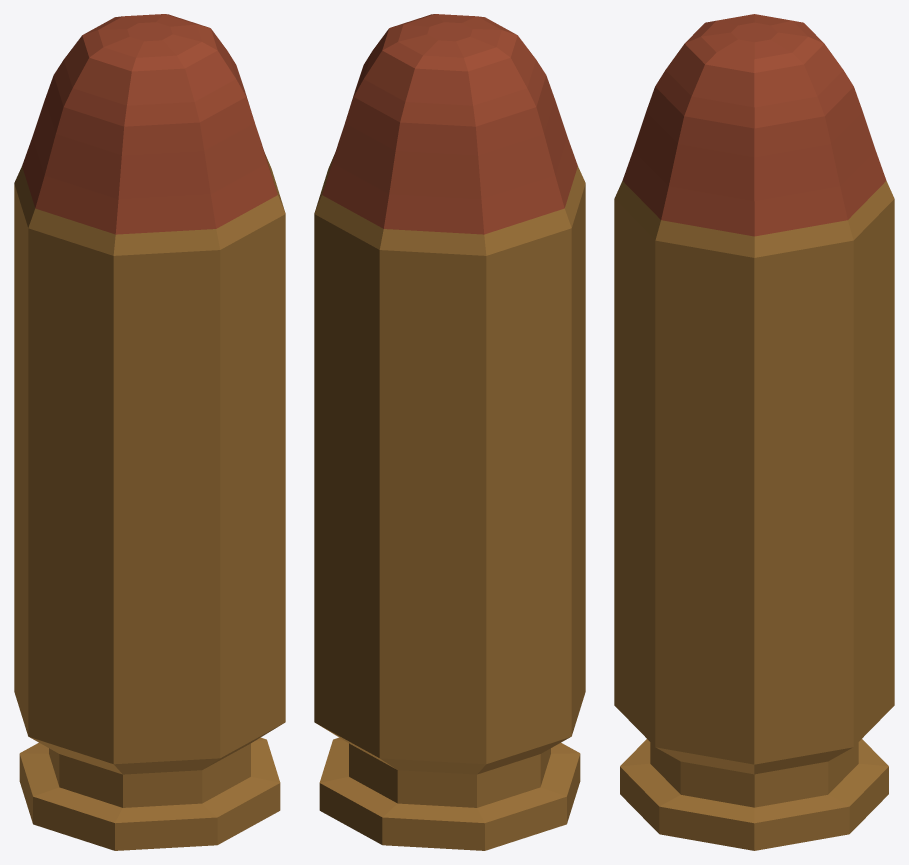
The model's file is Heavy Round.fbx.
The picture shows the model from 3 angles, left to right: view 1: azimuth 30°, elevation 25°; view 2: azimuth 150°, elevation 25°; view 3: azimuth 270°, elevation 25°; orthographic projection.
Parts seen in each view (by area): view 1: Cylinder; view 2: Cylinder; view 3: Cylinder.
Boxes of the visible parts, box(x1,y1,x2,y2) form: Cylinder: box(14, 14, 285, 850); Cylinder: box(314, 14, 585, 850); Cylinder: box(614, 14, 894, 850).
Size of the model in its own units: 100 by 301 by 100.
